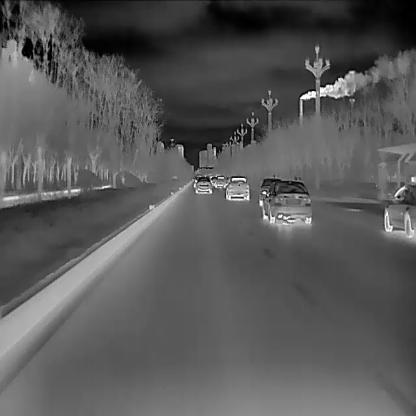car: (261, 181, 311, 223), (384, 175, 416, 238), (224, 176, 249, 200), (258, 178, 277, 205), (196, 176, 210, 193), (214, 176, 225, 188)
